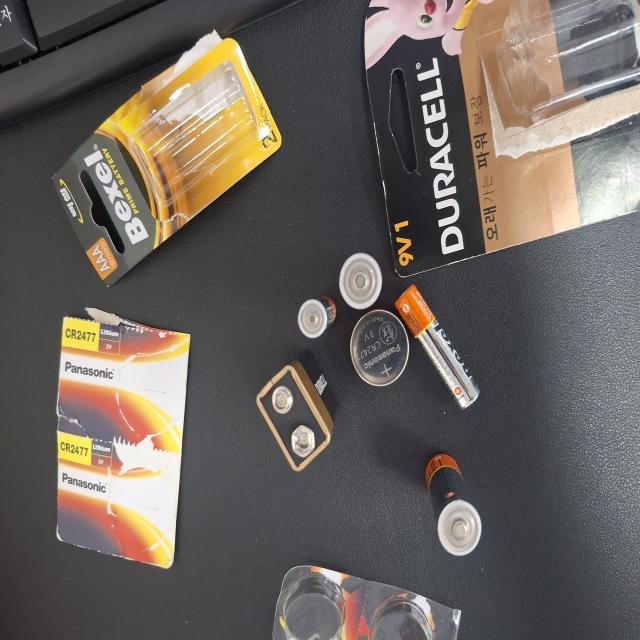9V: (127, 342, 217, 452)
AA: (63, 567, 139, 640), (249, 453, 289, 508)
AAA: (173, 527, 266, 639), (226, 397, 258, 449)
COIN: (190, 466, 248, 546)
